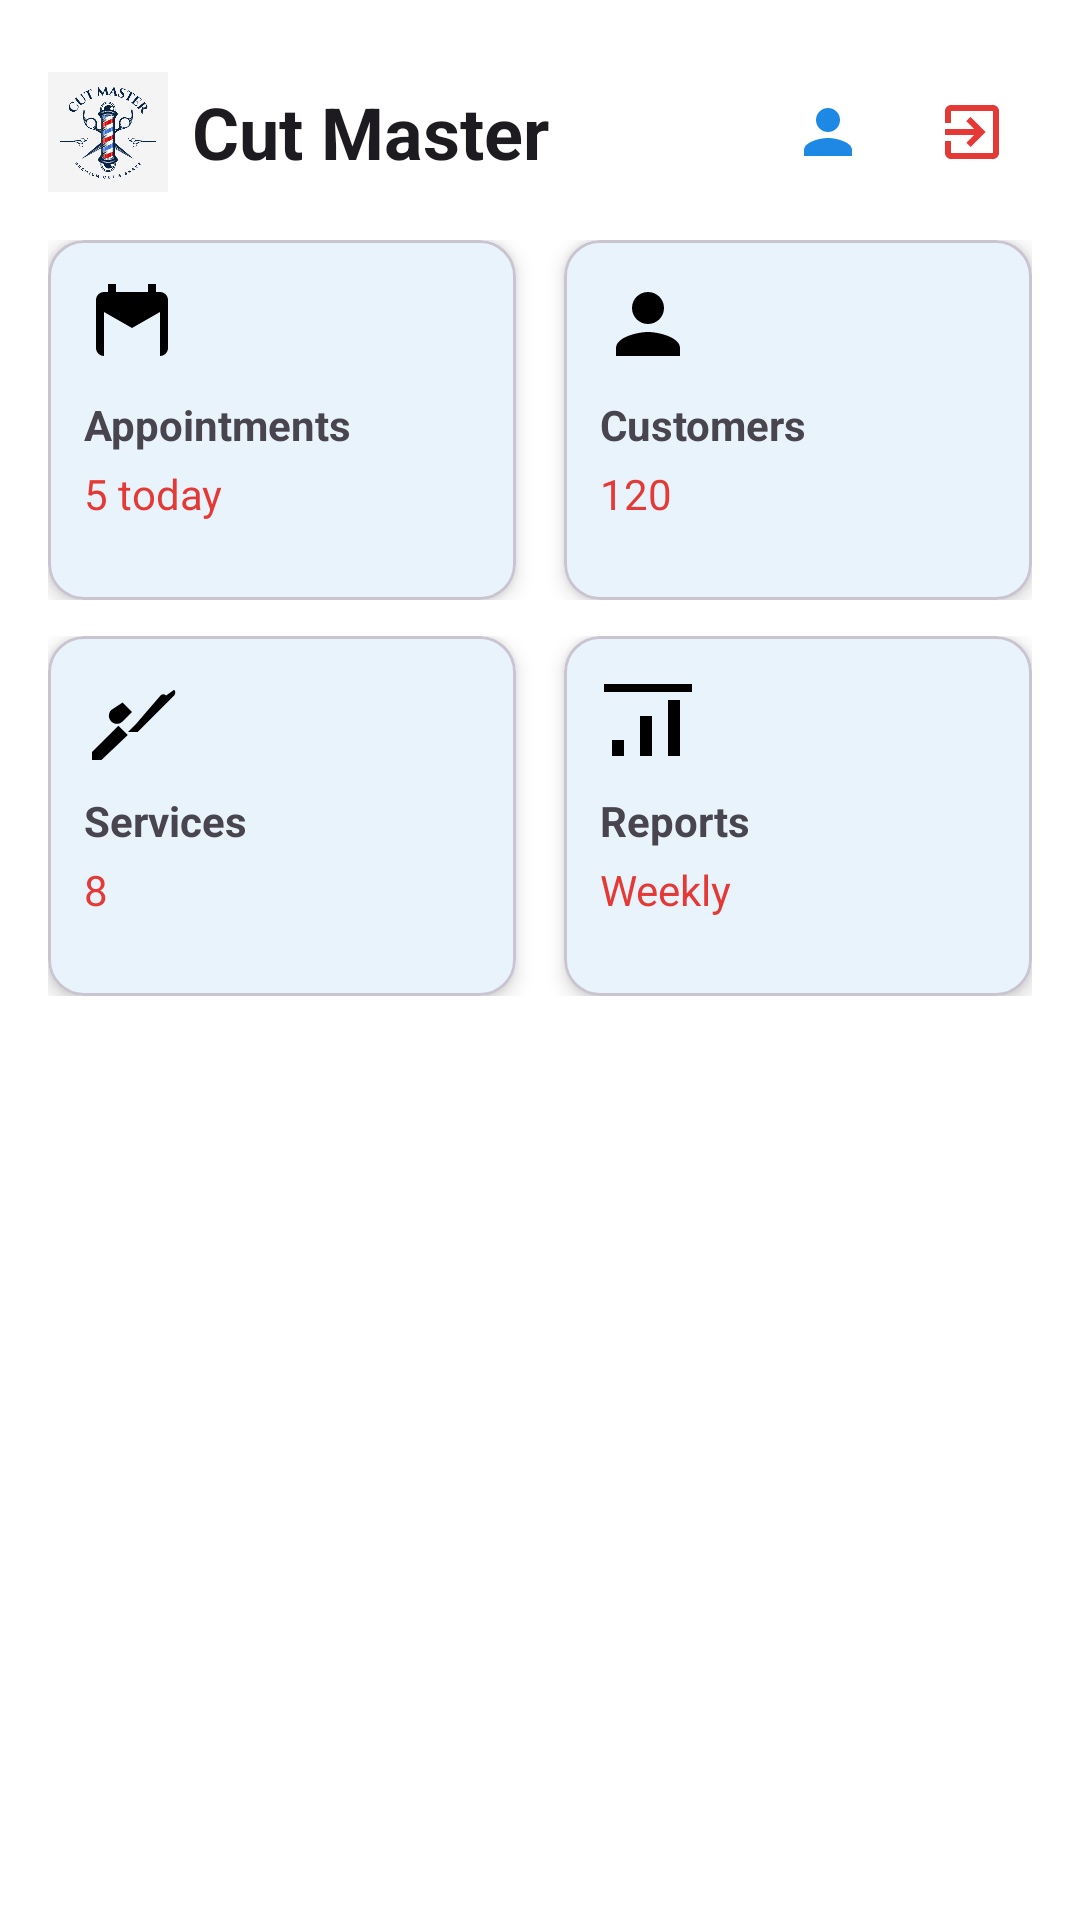

Named icons in this screenshot (1080x1920) and their bounding boxes, [x1=x1, y1=y1, x2=x2, y2=y2]:
person: [x1=804, y1=108, x2=852, y2=156]
